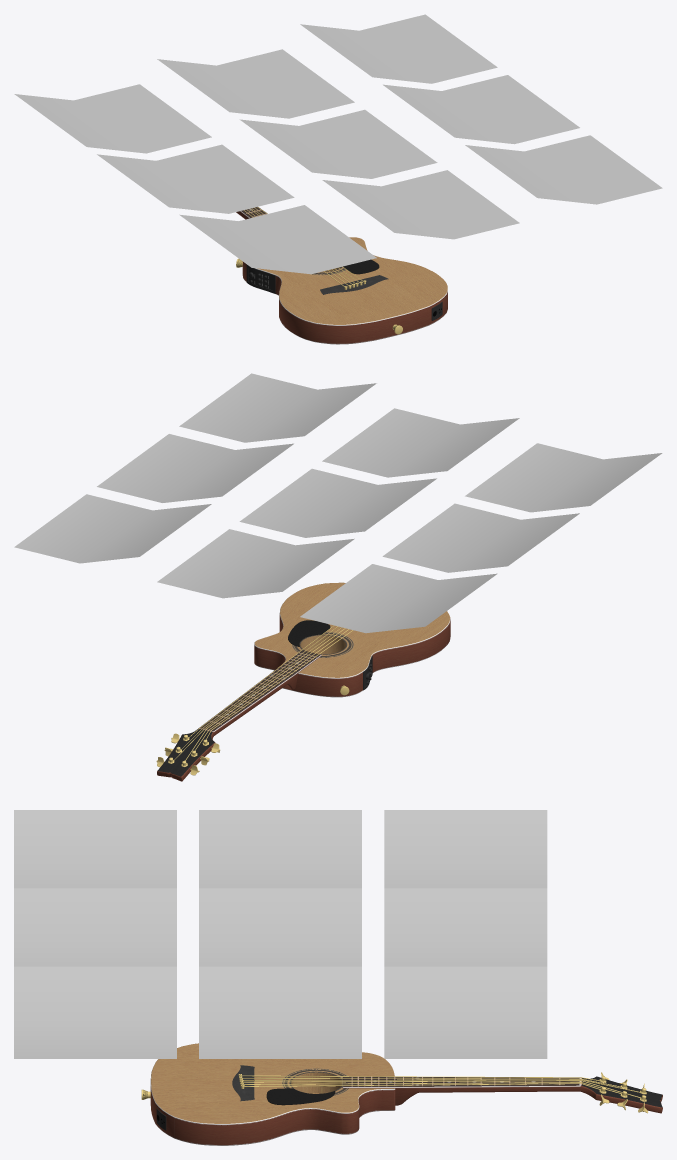
The model's file is Electric Guitar.dae.
3 views of the same model, one above another, from view 1: azimuth 30°, elevation 25°; view 2: azimuth 150°, elevation 25°; view 3: azimuth 270°, elevation 25° (orthographic). The views are drawn at different scales.
Parts seen in each view (by area): view 1: Guitar, Plane_7, Plane_3, Plane_4, Plane_8, Plane_1, Plane_6, Plane_2, Plane_0, Plane_5; view 2: Guitar, Plane_2, Plane_3, Plane_8, Plane_1, Plane_4, Plane_7, Plane_0, Plane_6, Plane_5; view 3: Guitar, Plane_8, Plane_2, Plane_5, Plane_7, Plane_6, Plane_0, Plane_1, Plane_3, Plane_4.
Boxes of the visible parts, left/top/right/bottom form: Guitar: left=236, top=207, right=447, bottom=344; Plane_7: left=157, top=49, right=354, bottom=118; Plane_3: left=97, top=144, right=294, bottom=213; Plane_4: left=239, top=109, right=437, bottom=178; Plane_8: left=300, top=14, right=497, bottom=83; Plane_1: left=322, top=170, right=519, bottom=239; Plane_6: left=14, top=84, right=211, bottom=153; Plane_2: left=465, top=135, right=662, bottom=204; Plane_0: left=179, top=205, right=376, bottom=274; Plane_5: left=383, top=75, right=579, bottom=144; Guitar: left=156, top=582, right=450, bottom=781; Plane_2: left=179, top=373, right=376, bottom=442; Plane_3: left=382, top=503, right=579, bottom=572; Plane_8: left=14, top=494, right=211, bottom=563; Plane_1: left=322, top=408, right=519, bottom=477; Plane_4: left=239, top=468, right=436, bottom=537; Plane_7: left=157, top=529, right=354, bottom=598; Plane_0: left=465, top=443, right=662, bottom=512; Plane_6: left=300, top=564, right=497, bottom=633; Plane_5: left=97, top=434, right=293, bottom=502; Guitar: left=141, top=1043, right=662, bottom=1145; Plane_8: left=384, top=966, right=547, bottom=1058; Plane_2: left=14, top=966, right=176, bottom=1058; Plane_5: left=199, top=966, right=361, bottom=1058; Plane_7: left=384, top=888, right=547, bottom=966; Plane_6: left=384, top=810, right=547, bottom=888; Plane_0: left=14, top=810, right=176, bottom=888; Plane_1: left=14, top=888, right=176, bottom=966; Plane_3: left=199, top=810, right=361, bottom=888; Plane_4: left=199, top=888, right=361, bottom=966.
Bounding box in the file's own units: 720 × 275 × 876.
Materials: 2 (1 with a texture image).
